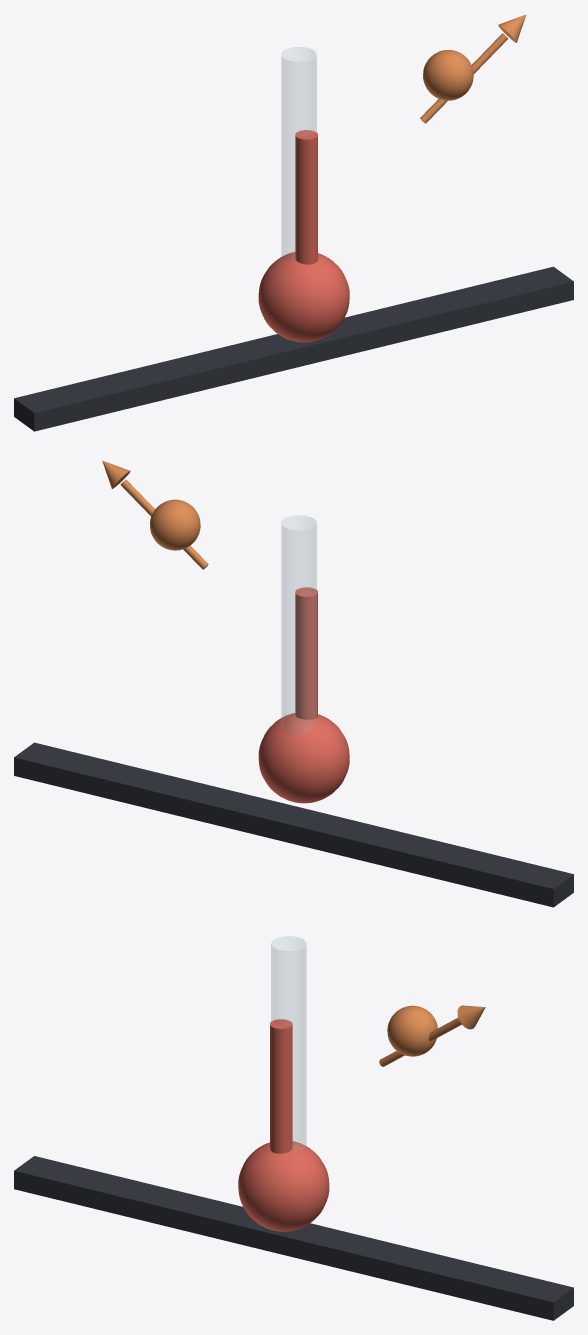
Rendered from physics-p1-temperature.glb.
3 views of the same model, one above another, from view 1: azimuth 30°, elevation 25°; view 2: azimuth 150°, elevation 25°; view 3: azimuth 330°, elevation 25° (orthographic).
Parts seen in each view (by area): view 1: thermal-bench-reference-base, thermometer-bulb, thermometer-glass-tube, red-liquid-temperature-level, fast-particle-high-temperature, particle-speed-indicates-temperature-shaft; view 2: thermal-bench-reference-base, thermometer-glass-tube, thermometer-bulb, red-liquid-temperature-level, fast-particle-high-temperature, particle-speed-indicates-temperature-shaft; view 3: thermal-bench-reference-base, thermometer-bulb, thermometer-glass-tube, red-liquid-temperature-level, fast-particle-high-temperature, particle-speed-indicates-temperature-shaft, particle-speed-indicates-temperature-head.
Part boxes in pixels (box(x1,y1,x2,y2)): thermal-bench-reference-base: box(14, 266, 573, 431); thermometer-bulb: box(258, 252, 349, 342); thermometer-glass-tube: box(281, 47, 316, 259); red-liquid-temperature-level: box(295, 130, 317, 264); fast-particle-high-temperature: box(423, 50, 473, 100); particle-speed-indicates-temperature-shaft: box(420, 33, 507, 123); thermal-bench-reference-base: box(14, 742, 573, 907); thermometer-glass-tube: box(281, 515, 316, 734); thermometer-bulb: box(258, 713, 349, 803); red-liquid-temperature-level: box(295, 587, 317, 719); fast-particle-high-temperature: box(150, 499, 200, 550); particle-speed-indicates-temperature-shaft: box(120, 479, 208, 569); thermal-bench-reference-base: box(14, 1156, 573, 1320); thermometer-bulb: box(238, 1141, 329, 1231); thermometer-glass-tube: box(271, 936, 306, 1148); red-liquid-temperature-level: box(270, 1019, 292, 1153); fast-particle-high-temperature: box(387, 1005, 437, 1056); particle-speed-indicates-temperature-shaft: box(379, 1017, 461, 1066); particle-speed-indicates-temperature-head: box(457, 1005, 485, 1029).
Size of what is drawn, in the model's own units: 2.45 by 1.33 by 0.36.
